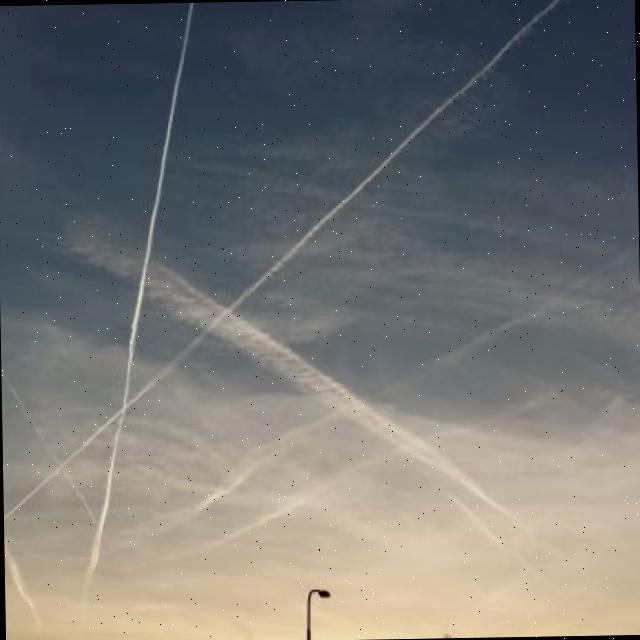Ct: (1, 19, 612, 533)
